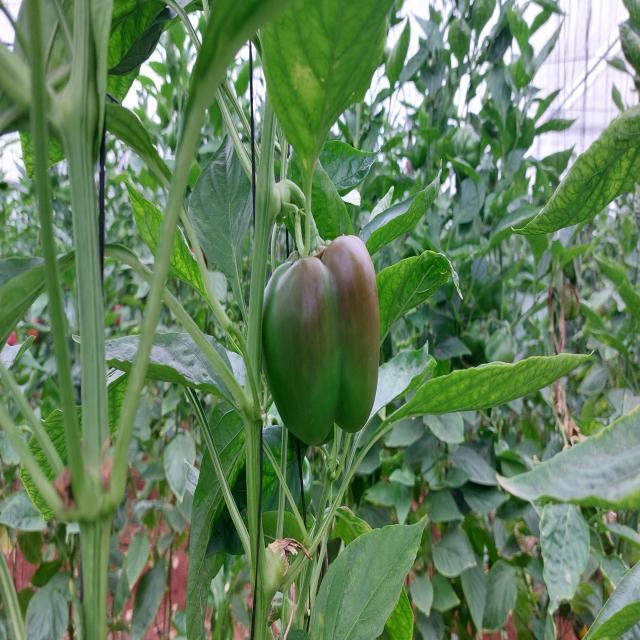BrownishRed--Can-be-Harvested: (256, 254, 387, 446)
